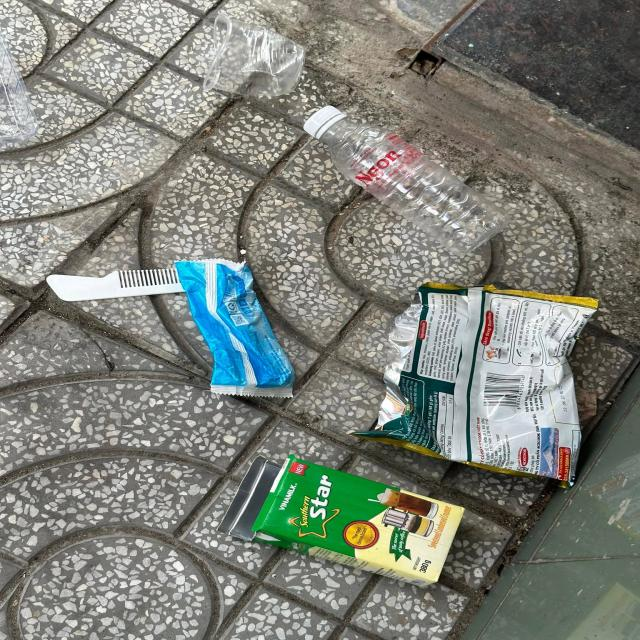bottle: (302, 105, 508, 255)
cardboard box: (215, 453, 465, 588)
packet: (174, 257, 297, 399)
plastic glass: (201, 16, 305, 98)
snack package: (347, 282, 600, 488)
